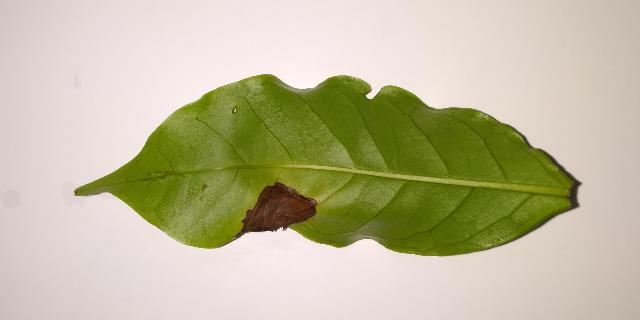rust: (232, 182, 316, 241)
